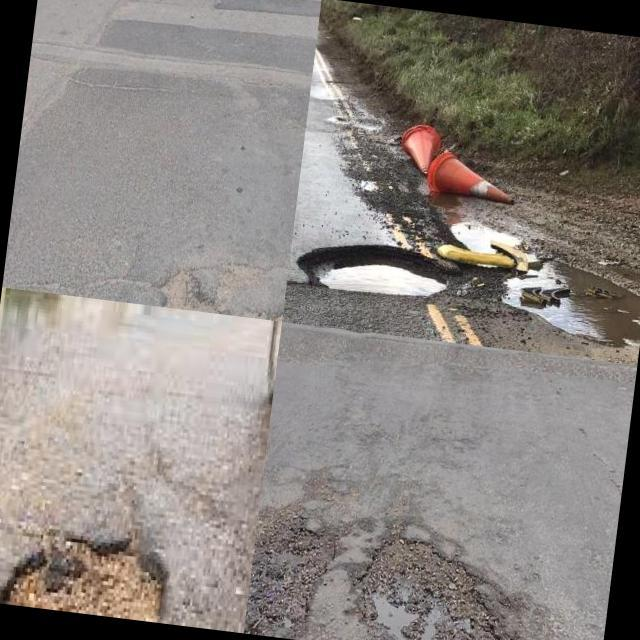Pothole: (364, 530, 510, 640), (243, 502, 337, 639), (0, 544, 164, 622), (299, 244, 461, 297)
